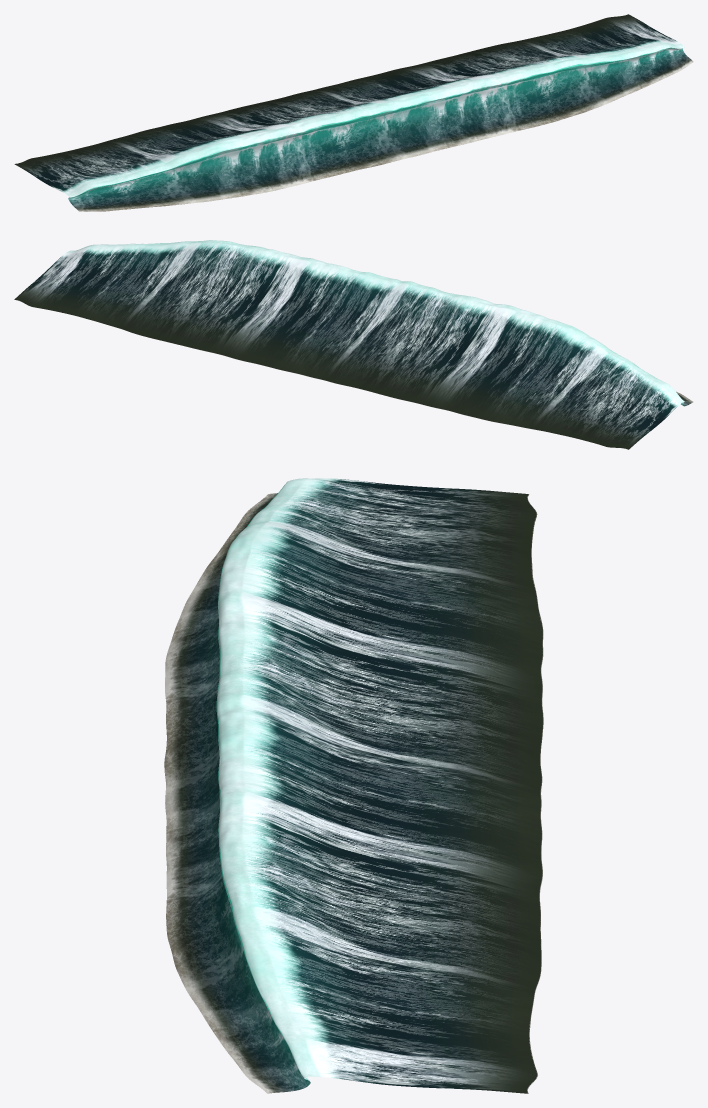
File: wave_body.glb
3 renders of one model, top to bottom at view 1: azimuth 30°, elevation 25°; view 2: azimuth 150°, elevation 25°; view 3: azimuth 270°, elevation 25°, orthographic. The views are drawn at different scales.
Size of the model in its own units: 601 by 41 by 160.
Materials: 1 (1 with a texture image).
